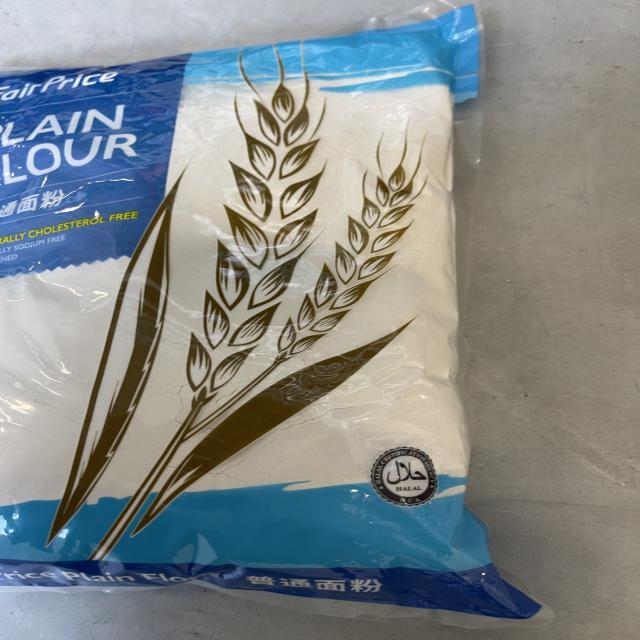object_name: (3, 41, 472, 611)
